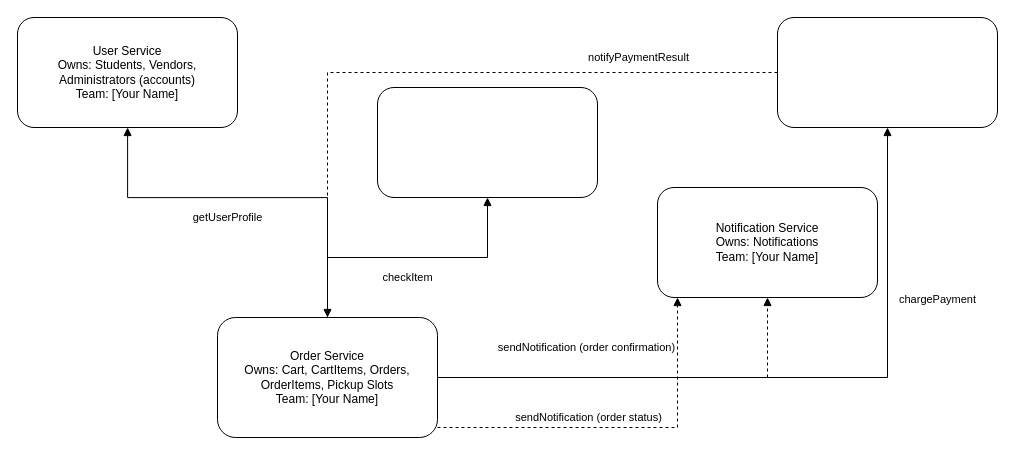
Some shapes in this 1015 by 455 pixel diagram are drawn without their labels. Here are the shapes that lost their labels. From the top down, the centre of each, then its label:
(x=887, y=72): Payment Service Owns: Payments Team: [Your Name]
(x=487, y=142): Catalogue Service Owns: Vendor Profiles, Menu, Food Items Team: [Your Name]
